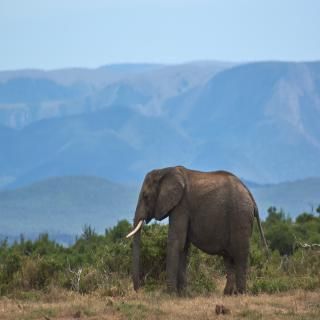Elephant: (123, 164, 275, 294)
